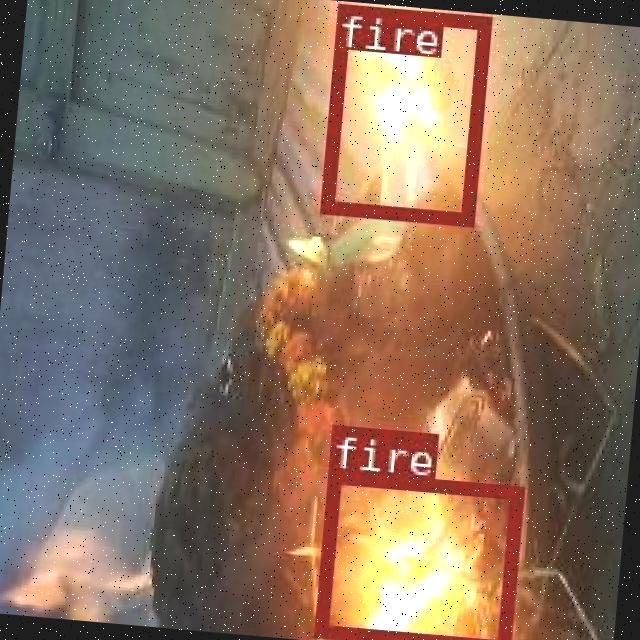fire: (317, 2, 489, 223), (311, 466, 520, 640)
